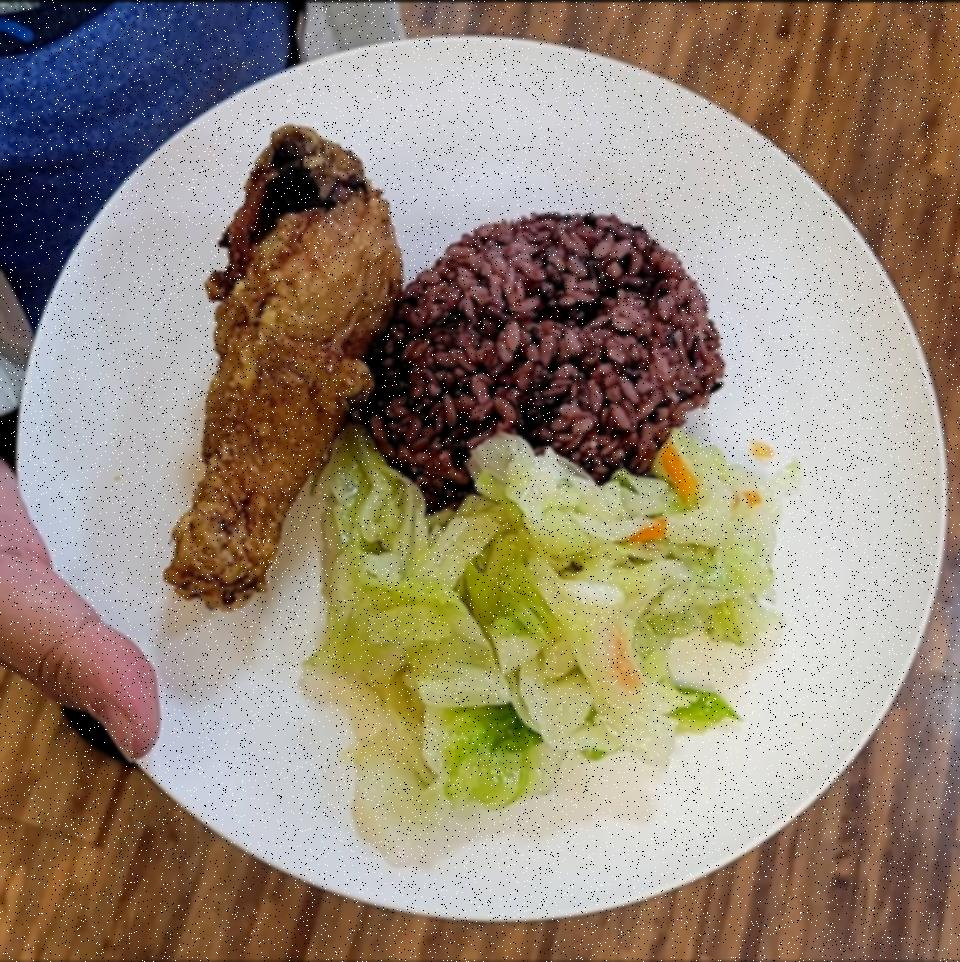plate: (18, 28, 946, 936)
purple rice: (362, 204, 718, 492)
side dish: (313, 445, 788, 856)
small fried chicken leg: (152, 118, 406, 612)
